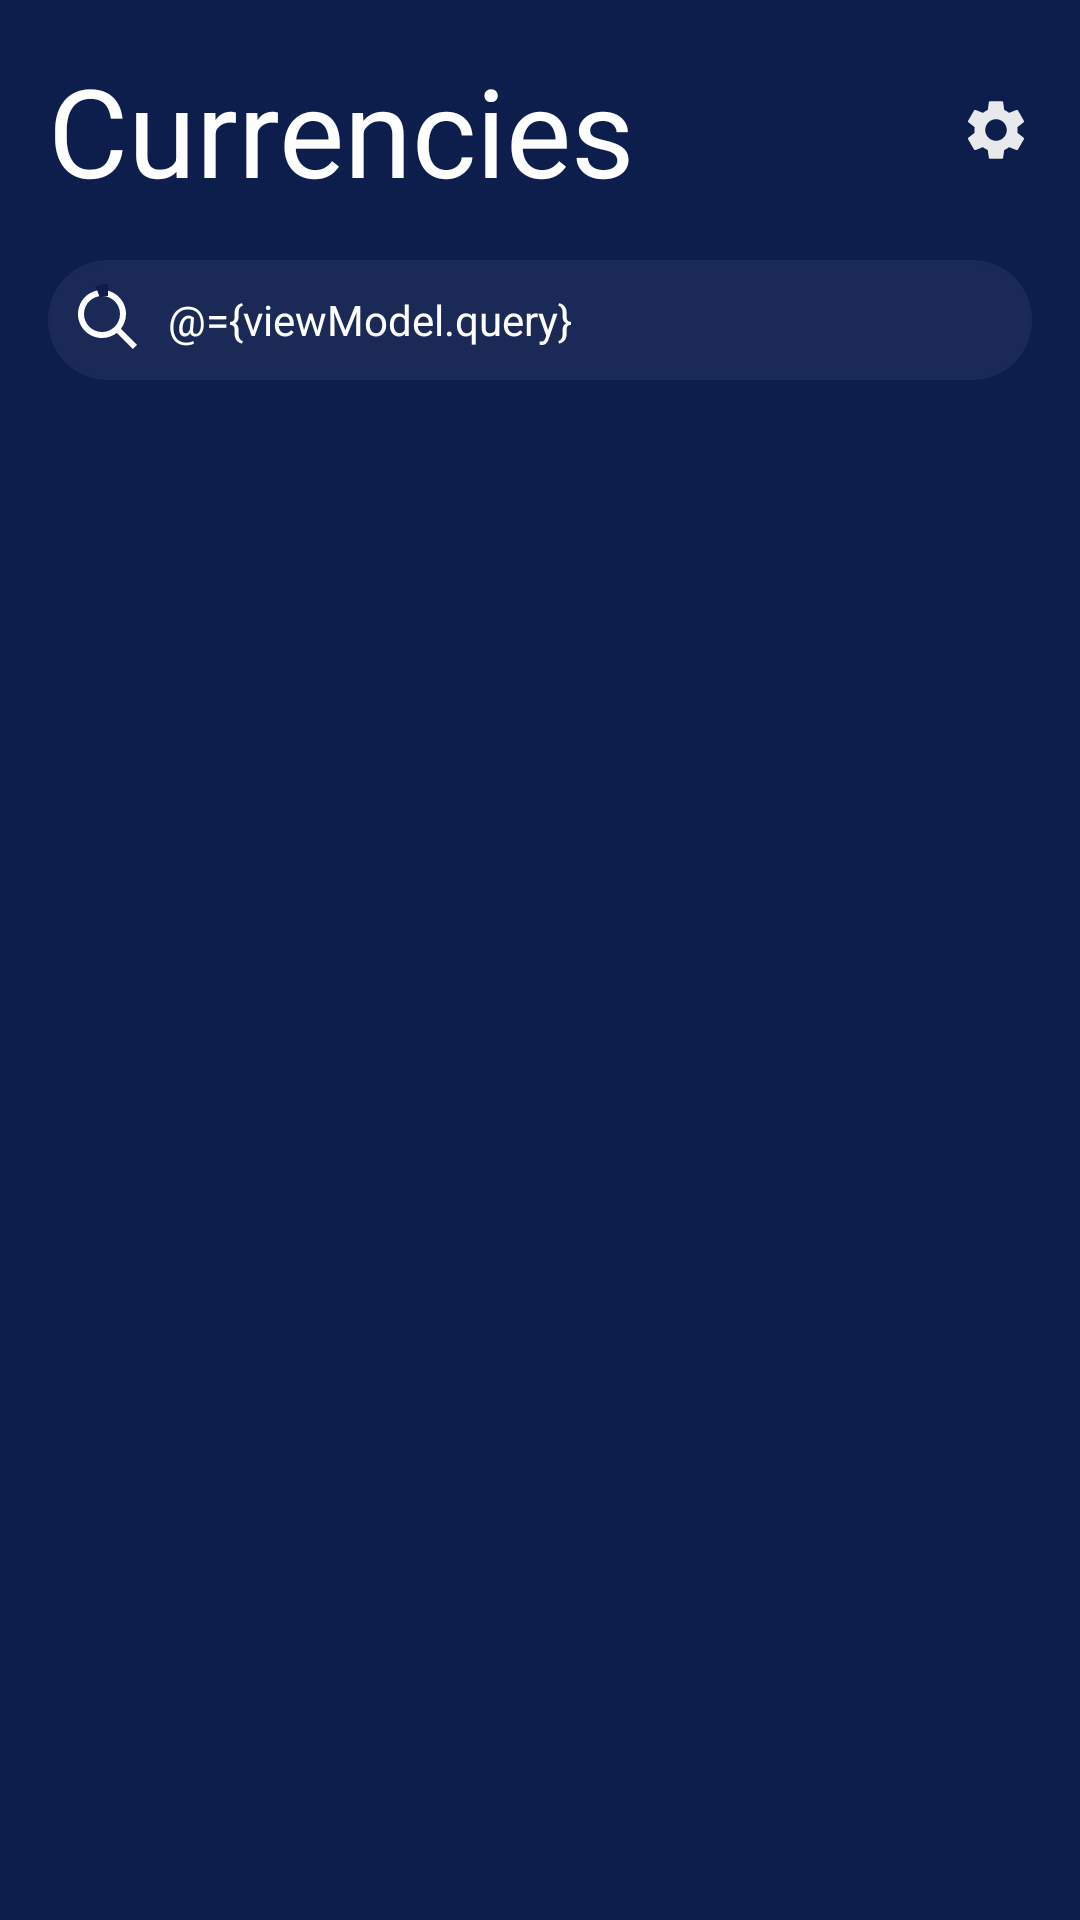

Point at icon controls on the screen. Image size 1080×1920, points as (x=x, y=y).
list setting: (x=996, y=130)
